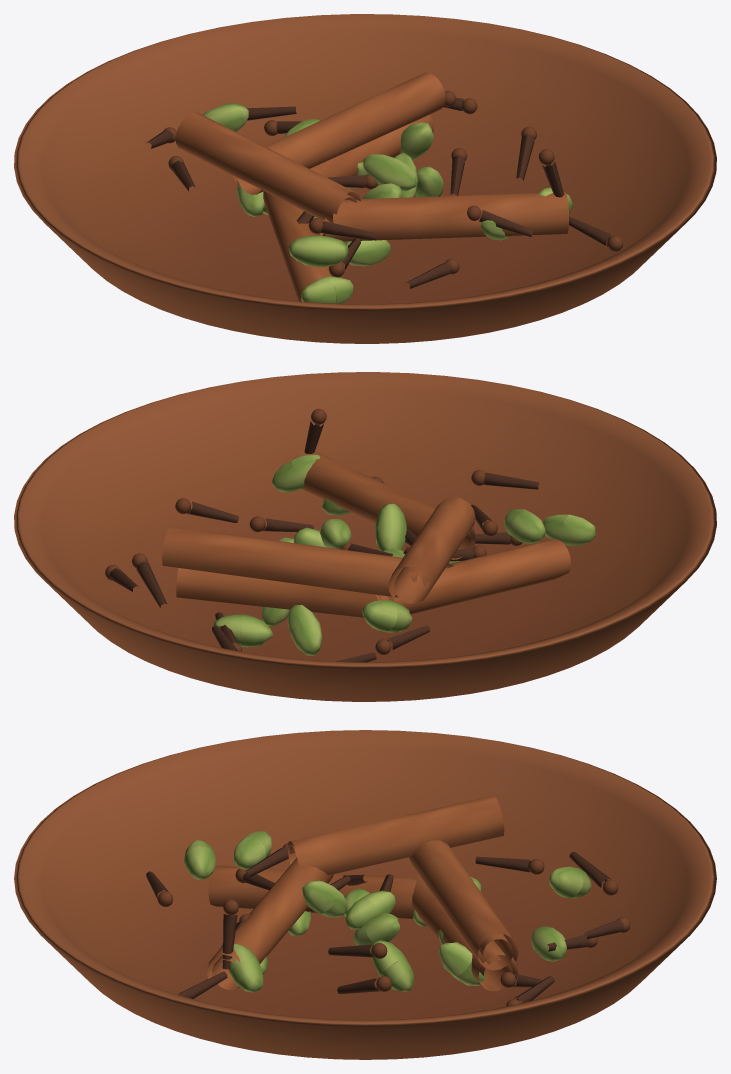
File: garam-masala.glb
The picture shows the model from 3 angles, top to bottom: view 1: azimuth 30°, elevation 25°; view 2: azimuth 150°, elevation 25°; view 3: azimuth 270°, elevation 25°; orthographic projection.
Parts seen in each view (by area): view 1: clay, bark, pods, cloves; view 2: clay, bark, pods, cloves; view 3: clay, bark, pods, cloves.
Boxes of the visible parts, x1=… form: clay: x1=14, y1=14, x2=716, y2=343; bark: x1=175, y1=72, x2=568, y2=303; pods: x1=203, y1=103, x2=572, y2=303; cloves: x1=146, y1=90, x2=623, y2=288; clay: x1=14, y1=372, x2=716, y2=701; bark: x1=162, y1=450, x2=570, y2=617; pods: x1=213, y1=455, x2=595, y2=655; cloves: x1=105, y1=408, x2=539, y2=662; clay: x1=14, y1=730, x2=716, y2=1059; bark: x1=206, y1=795, x2=518, y2=991; pods: x1=184, y1=831, x2=591, y2=992; cloves: x1=146, y1=843, x2=630, y2=1006.
Bounding box in the file's own units: 1.4 × 0.2949 × 1.4.
